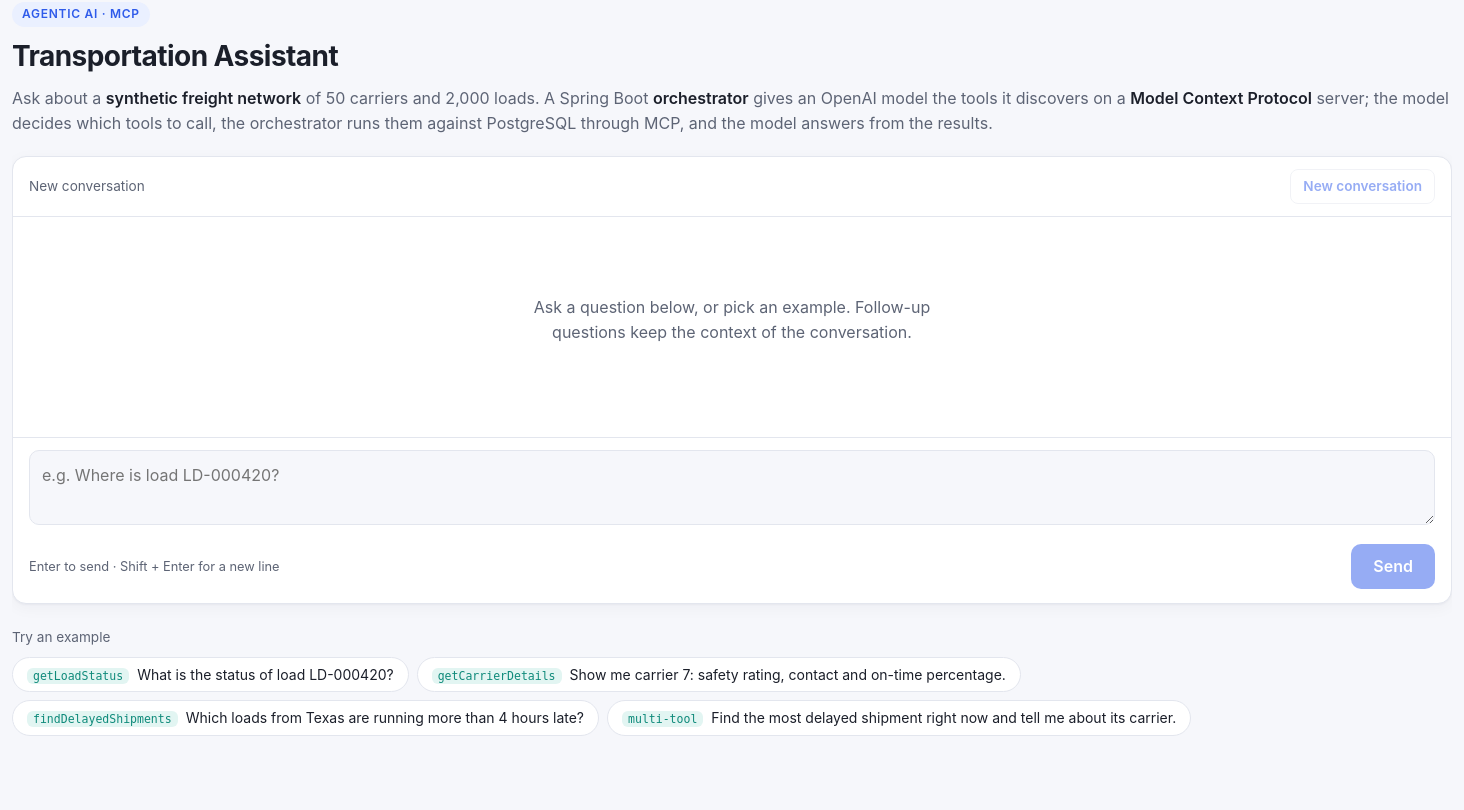
Test: TransportationAssistant › does not render raw HTML from the answer
Type "xss?" into the text box named "message the transportation assistant" at [732, 487], box [29,450,1435,525]
Then press Enter
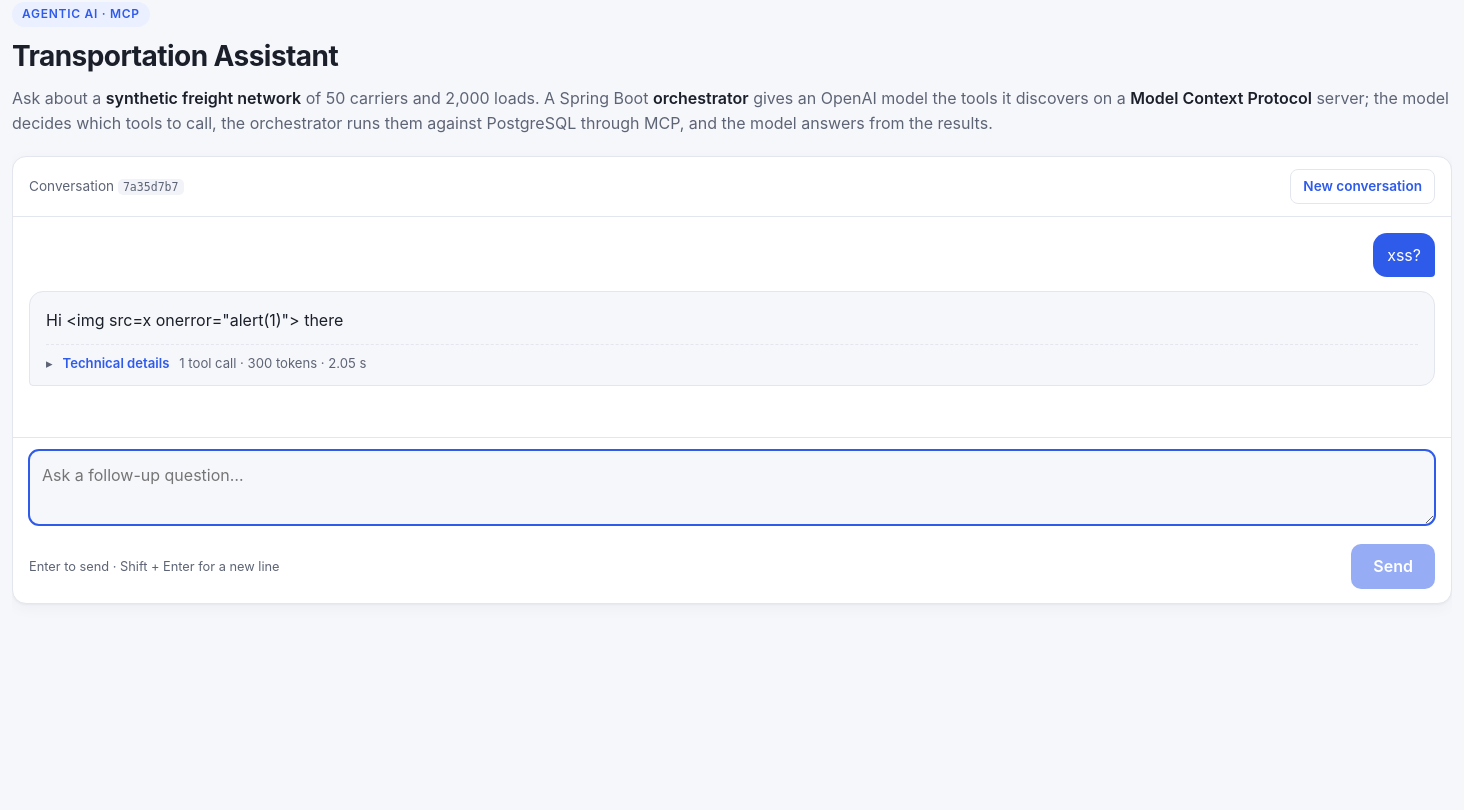
Check: the text "Hi <img src=x onerror=\"alert(1)\"> there" is shown, box [46,310,343,330]
